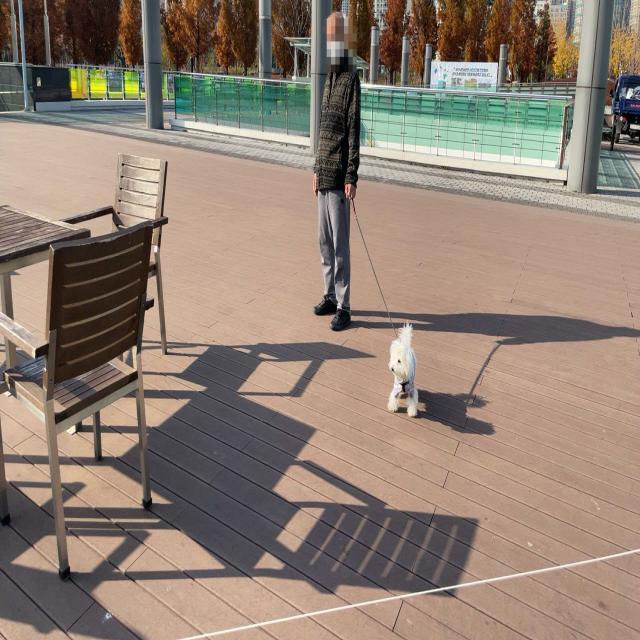Leashed_Dog: (327, 168, 419, 420)
